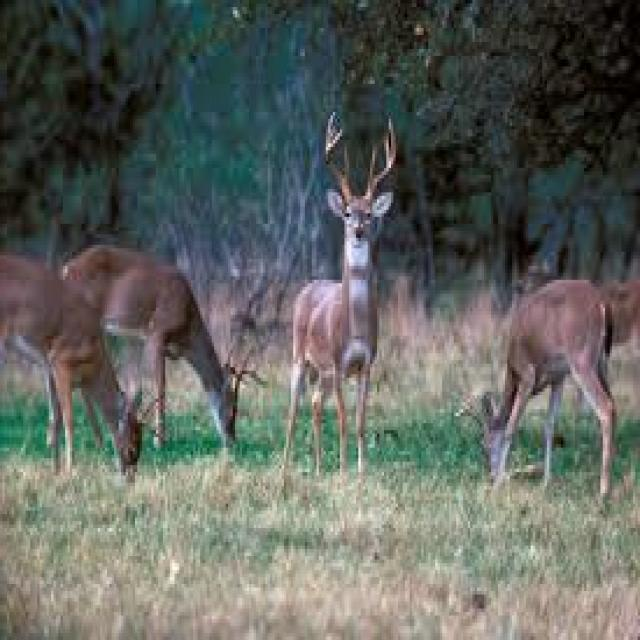deer: (286, 112, 398, 472), (63, 245, 265, 441), (458, 280, 614, 493), (2, 255, 147, 476)
